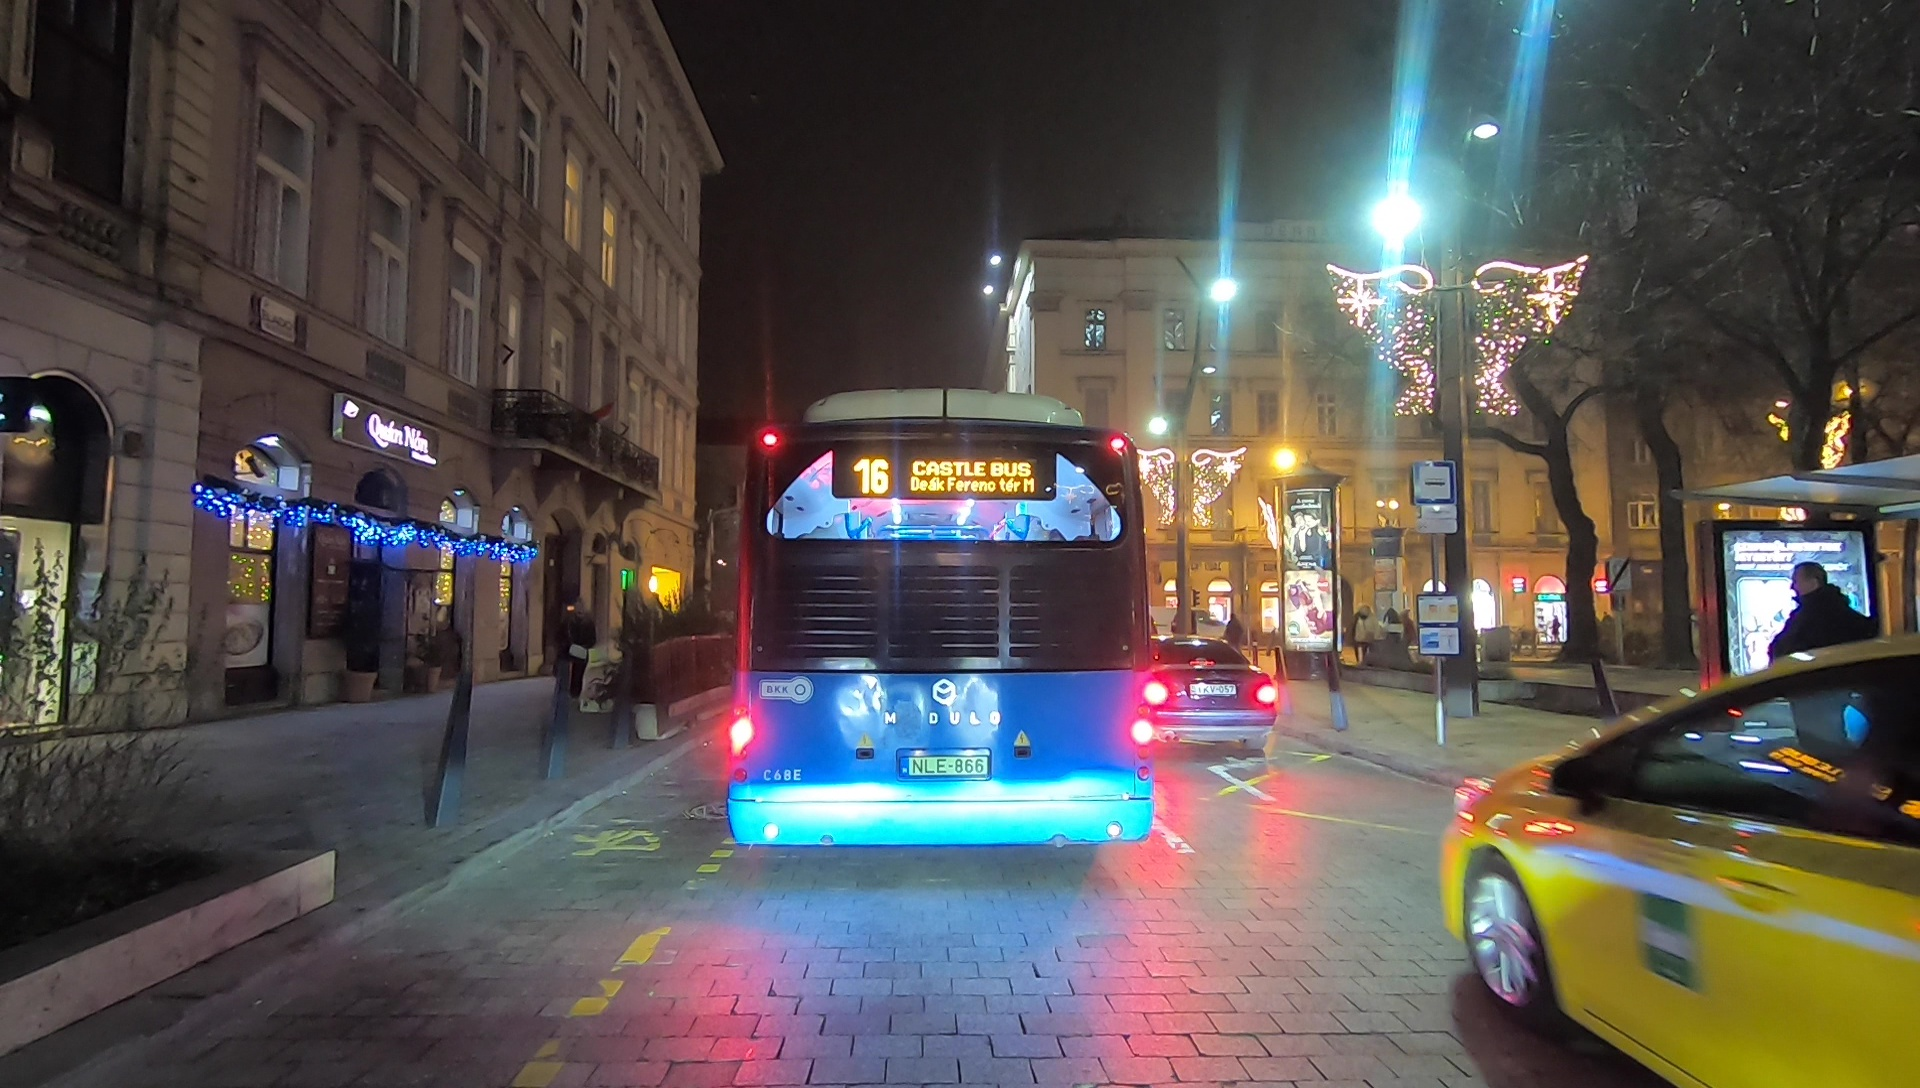person: (1775, 563, 1875, 836), (558, 593, 593, 721)
